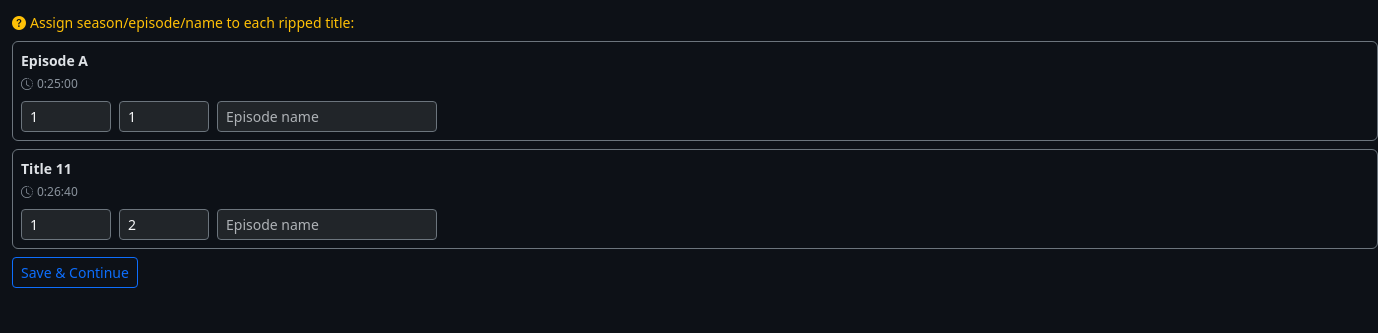
EpisodeAssignmentForm › shows an error message when assignEpisodes rejects
Click the button "Save & Continue" at (75, 272), box [12,257,138,288]
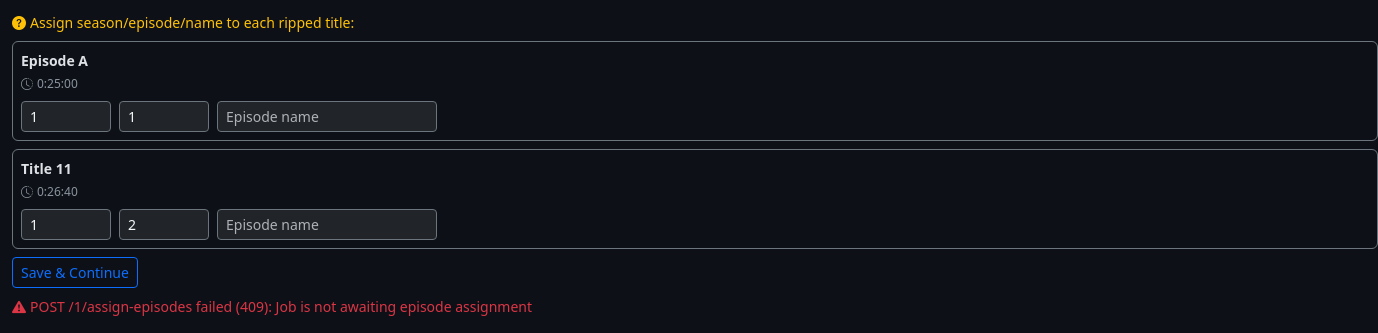
Now the text "Job is not awaiting episode assignment" is shown, box [30,297,532,316]
